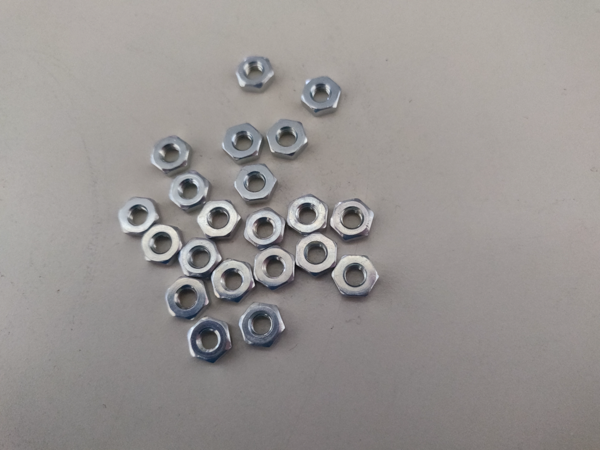nut: (239, 303, 287, 349), (333, 256, 381, 300), (189, 317, 232, 365), (332, 199, 375, 243), (254, 246, 297, 289), (167, 277, 209, 321), (198, 200, 242, 240), (296, 234, 337, 276), (244, 210, 286, 251), (212, 260, 254, 301), (170, 172, 211, 214), (119, 197, 161, 238), (234, 164, 277, 204), (300, 78, 344, 117), (143, 225, 183, 267), (266, 120, 310, 158), (287, 195, 329, 234), (222, 123, 264, 161), (179, 239, 221, 277), (151, 136, 191, 175), (237, 58, 274, 94)
